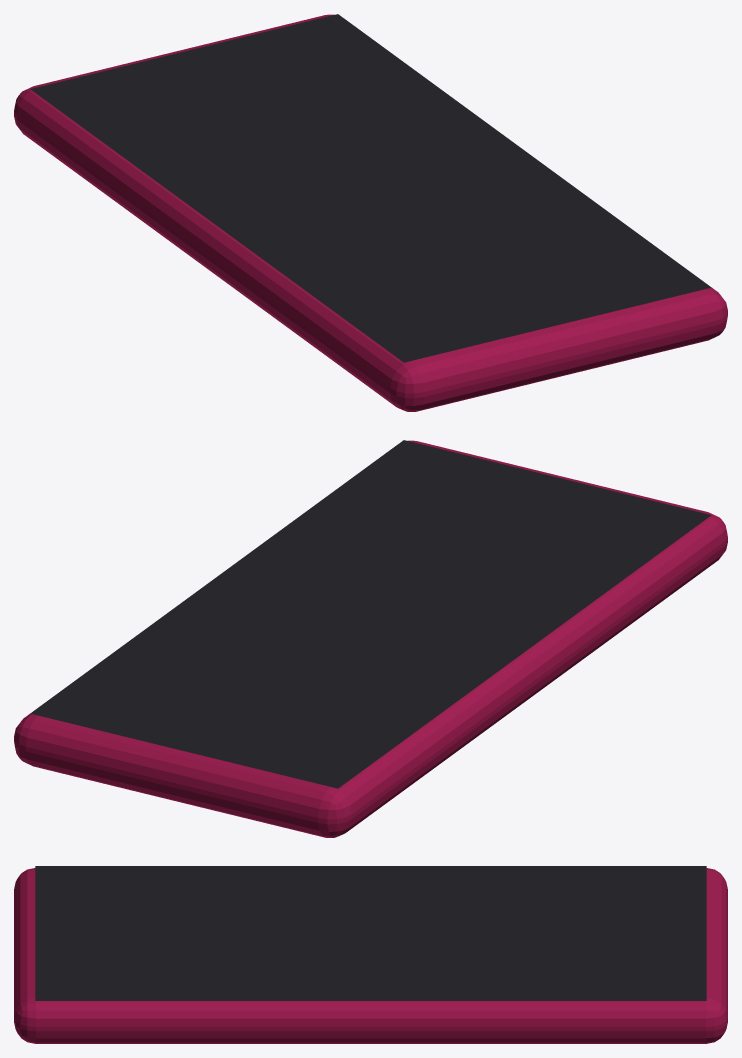
File: vivo-v-model-13-budget-2025.glb
3 renders of one model, top to bottom at view 1: azimuth 30°, elevation 25°; view 2: azimuth 150°, elevation 25°; view 3: azimuth 270°, elevation 25°, orthographic. The views are drawn at different scales.
Parts seen in each view (by area): view 1: Phone_Screen, Phone_Body; view 2: Phone_Screen, Phone_Body; view 3: Phone_Screen, Phone_Body.
Boxes of the visible parts, left/top/right/bottom form: Phone_Screen: left=30, top=14, right=711, bottom=362; Phone_Body: left=14, top=14, right=727, bottom=411; Phone_Screen: left=30, top=440, right=711, bottom=788; Phone_Body: left=14, top=440, right=727, bottom=837; Phone_Screen: left=35, top=866, right=706, bottom=1000; Phone_Body: left=14, top=868, right=727, bottom=1043.
Bounding box in the file's own units: 0.0708 × 0.01 × 0.1457.
